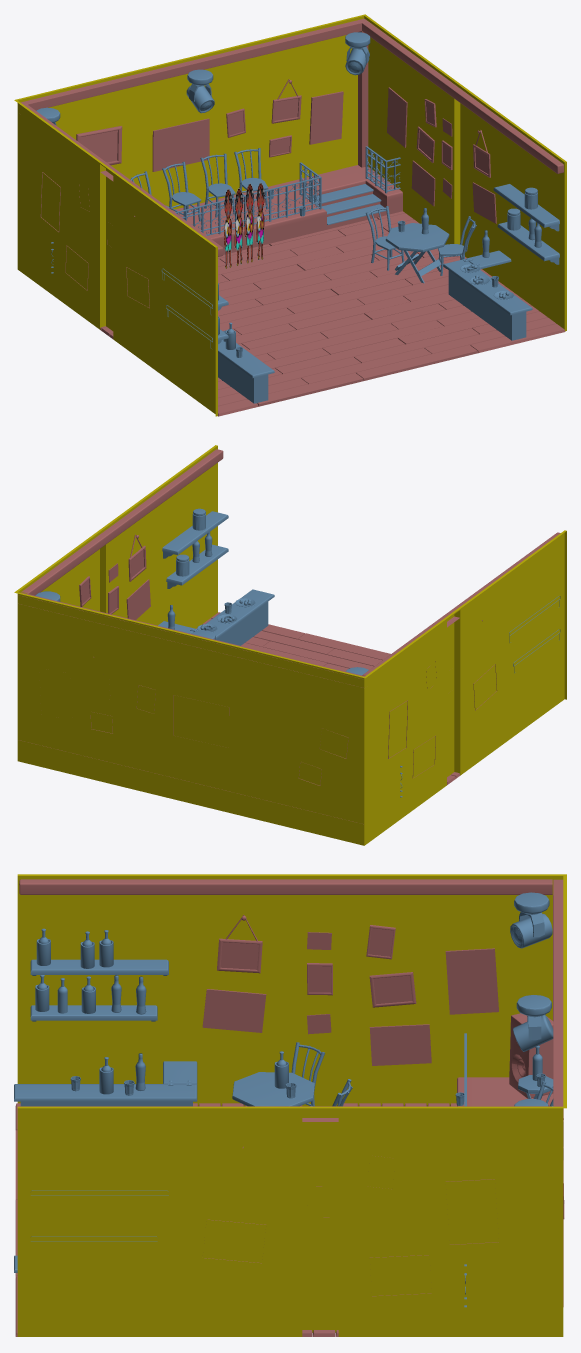
The model's file is Modelagem_Sem_UV.fbx.
The picture shows the model from 3 angles, top to bottom: view 1: azimuth 30°, elevation 25°; view 2: azimuth 150°, elevation 25°; view 3: azimuth 270°, elevation 25°; orthographic projection. The views are drawn at different scales.
Visible parts, largest first — view 1: Parede, Escadaria, PilastraMadeira_001, PilastraMadeira_003, PisoMadeira_004, DebaixoBalcao, PisoMadeira_003, Poster_001, PisoMadeira_002, Personagem, BeiradaBalcao, PisoMadeira_001 (+34 smaller); view 2: Parede, PilastraMadeira_003, PisoMadeira_004, PisoMadeira_003, Estante_002, DebaixoBalcao, PisoMadeira_002, BeiradaBalcao, Estante_001, Poster_005, PilastraMadeira_001, PisoMadeira_001; view 3: Parede, PilastraMadeira_003, Poster_004, BeiradaBalcao, PilastraMadeira_001, Poster_005, Poster_006, Estante_002, Mesa_001, Estante_001, Escadaria, CaixadeSom (+11 smaller).
Boxes of the visible parts, x1=… form: Parede: x1=14, y1=14, x2=566, y2=416; Escadaria: x1=172, y1=165, x2=402, y2=254; PilastraMadeira_001: x1=20, y1=18, x2=367, y2=110; PilastraMadeira_003: x1=24, y1=21, x2=563, y2=256; PisoMadeira_004: x1=218, y1=324, x2=565, y2=416; DebaixoBalcao: x1=218, y1=270, x2=526, y2=403; PisoMadeira_003: x1=218, y1=317, x2=556, y2=406; Poster_001: x1=152, y1=118, x2=209, y2=171; PisoMadeira_002: x1=218, y1=311, x2=547, y2=398; Personagem: x1=224, y1=182, x2=264, y2=268; BeiradaBalcao: x1=218, y1=259, x2=532, y2=378; PisoMadeira_001: x1=218, y1=305, x2=539, y2=389; Parede: x1=14, y1=445, x2=566, y2=845; PilastraMadeira_003: x1=22, y1=449, x2=560, y2=675; PisoMadeira_004: x1=211, y1=612, x2=390, y2=660; PisoMadeira_003: x1=202, y1=618, x2=382, y2=666; Estante_002: x1=162, y1=511, x2=560, y2=635; DebaixoBalcao: x1=216, y1=602, x2=268, y2=645; PisoMadeira_002: x1=196, y1=628, x2=373, y2=669; BeiradaBalcao: x1=197, y1=589, x2=274, y2=639; Estante_001: x1=166, y1=544, x2=560, y2=666; Poster_005: x1=126, y1=579, x2=497, y2=710; PilastraMadeira_001: x1=18, y1=592, x2=364, y2=687; PisoMadeira_001: x1=241, y1=643, x2=348, y2=671; Parede: x1=17, y1=874, x2=566, y2=1336; PilastraMadeira_003: x1=19, y1=879, x2=552, y2=1121; Poster_004: x1=445, y1=948, x2=498, y2=1244; BeiradaBalcao: x1=14, y1=1084, x2=197, y2=1272; PilastraMadeira_001: x1=553, y1=879, x2=563, y2=1121; Poster_005: x1=202, y1=989, x2=266, y2=1263; Poster_006: x1=369, y1=1024, x2=431, y2=1296; Estante_002: x1=30, y1=959, x2=168, y2=1195; Mesa_001: x1=232, y1=1072, x2=314, y2=1106; Estante_001: x1=30, y1=1005, x2=157, y2=1241; Escadaria: x1=457, y1=1077, x2=563, y2=1306; CaixadeSom: x1=509, y1=1013, x2=553, y2=1098.
Bounding box in the file's own units: 30.94 × 14.66 × 30.93.
